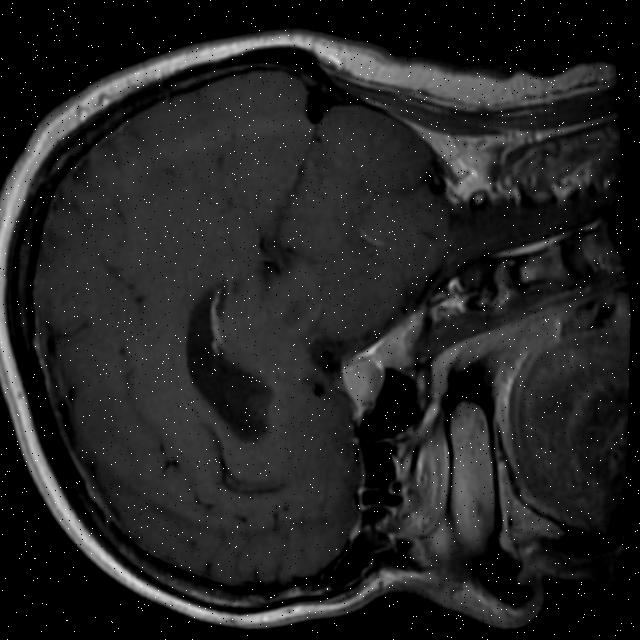Pituitary: (336, 353, 387, 408)
